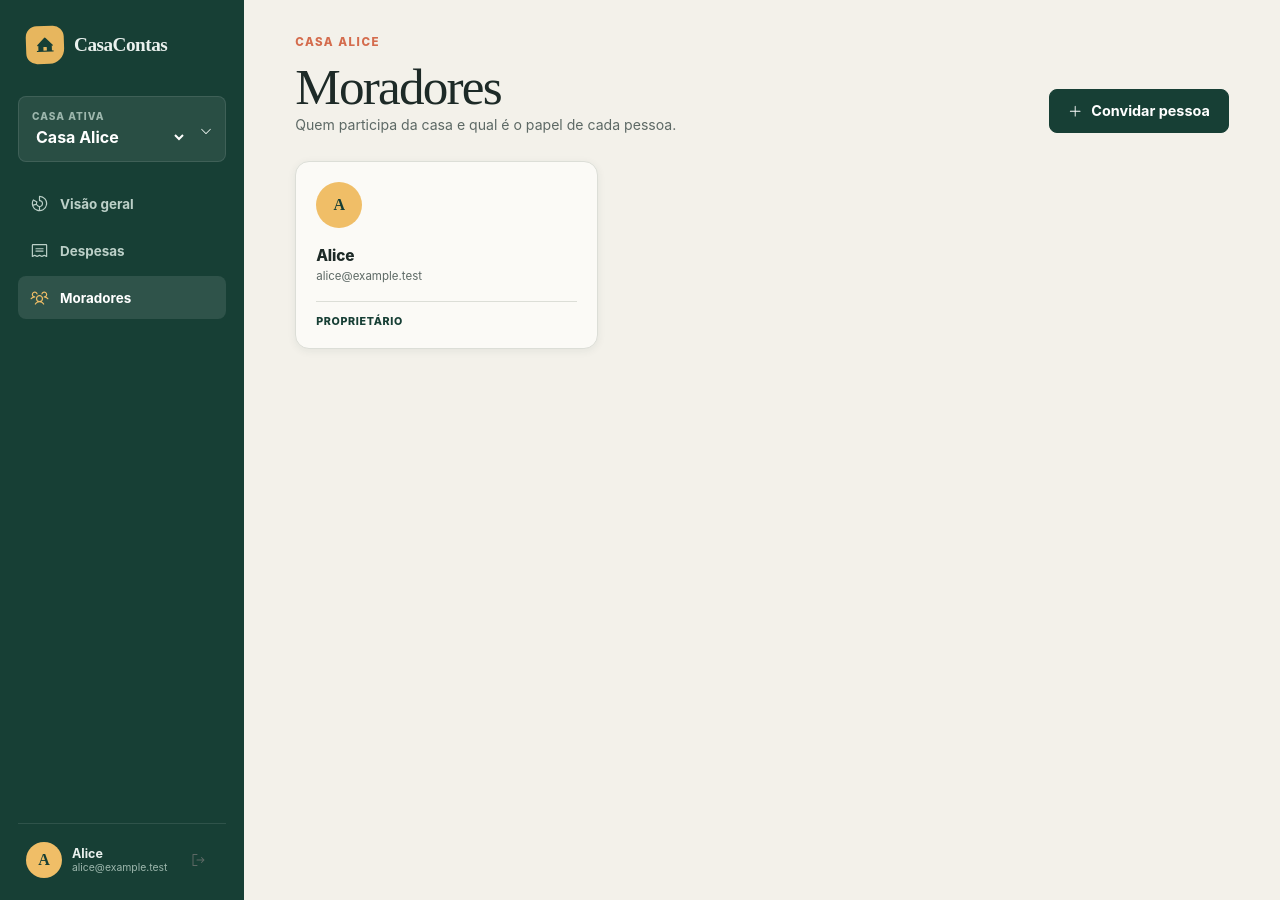
Test: envia o papel MEMBER aceito pela API ao gerar convite de morador
Click the button "Convidar pessoa" at (1139, 111), box [1049,89,1229,133]
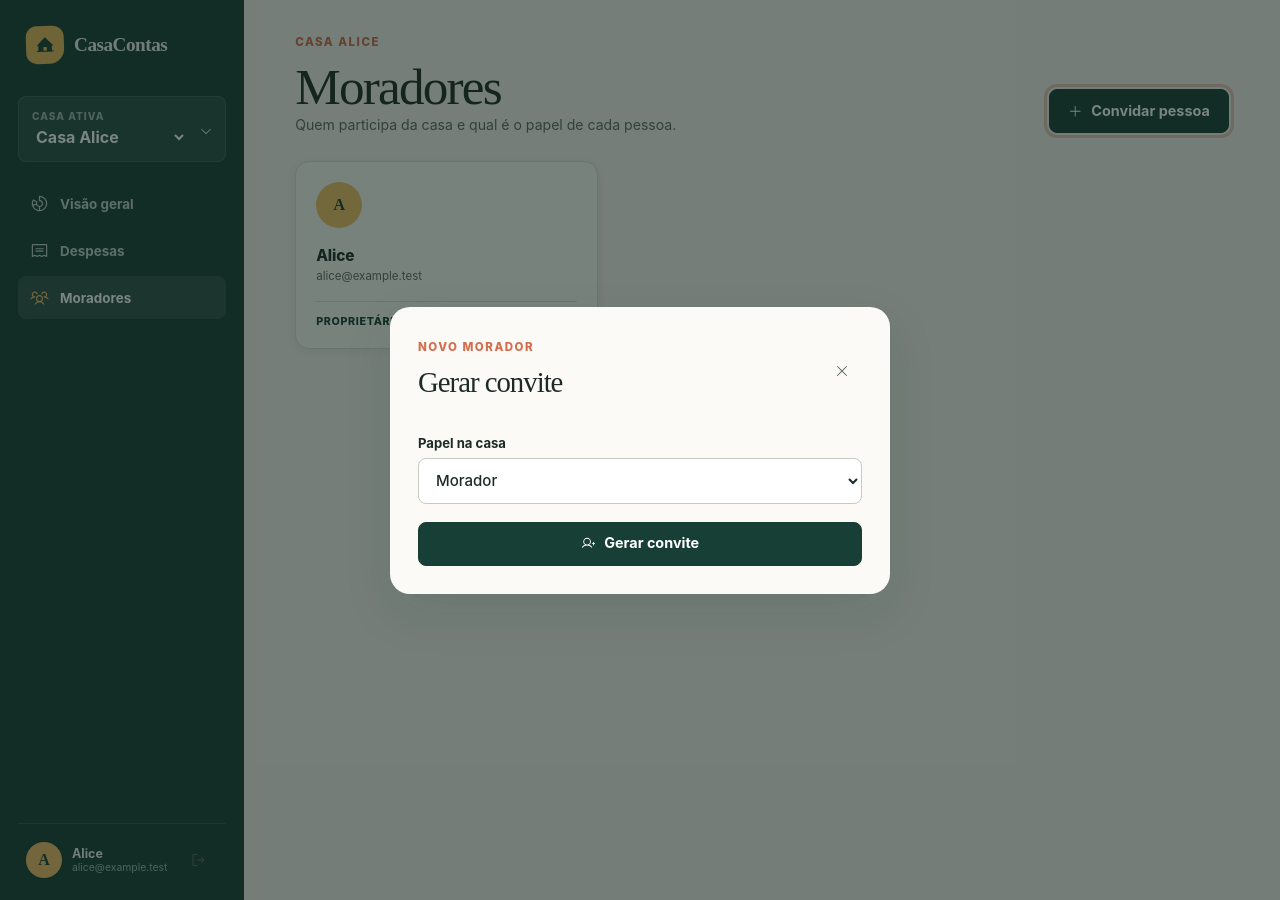
Click the button "Gerar convite" at (640, 544), box [418,522,862,566]
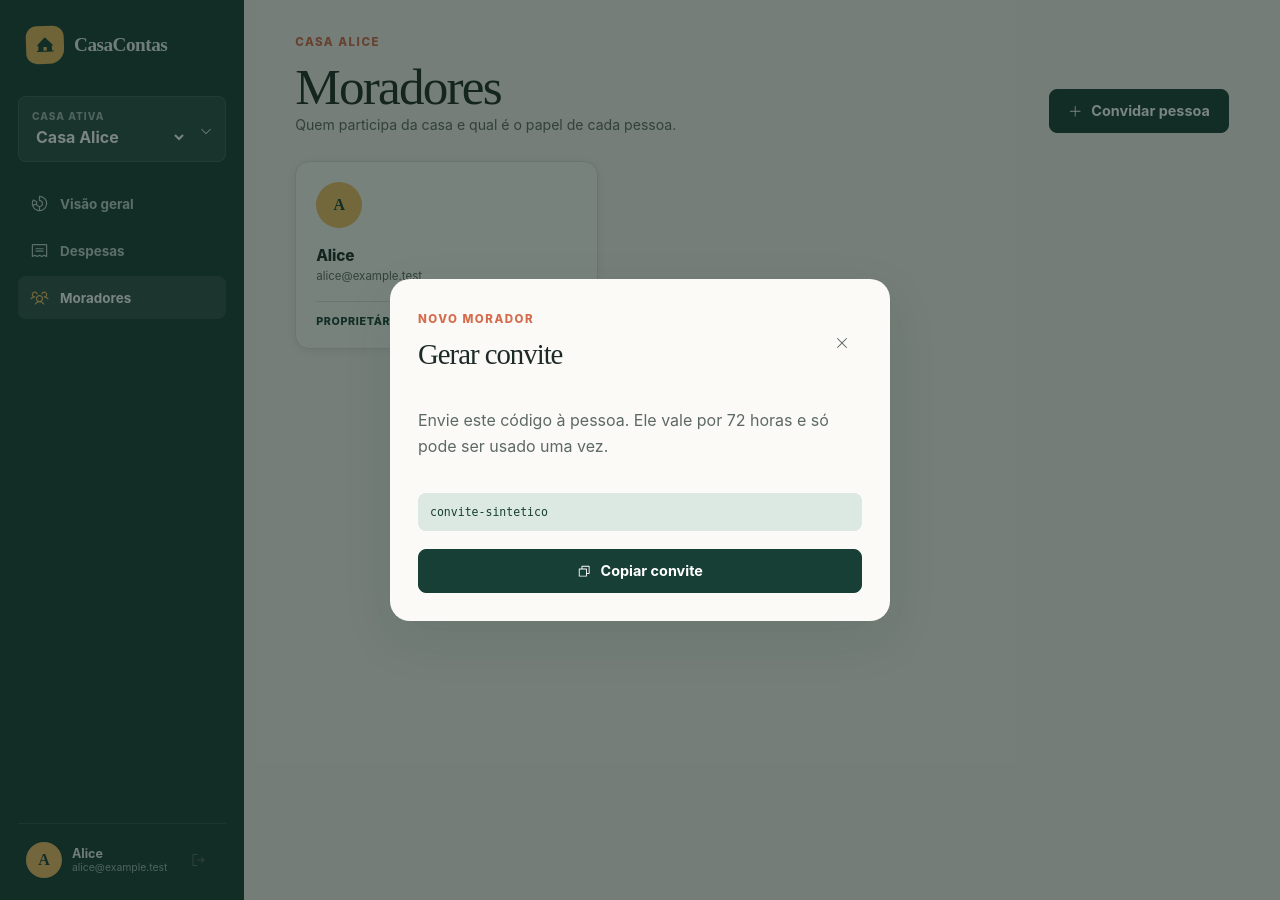
Expected: the text "convite-sintetico" is shown, [418,493,862,531]
